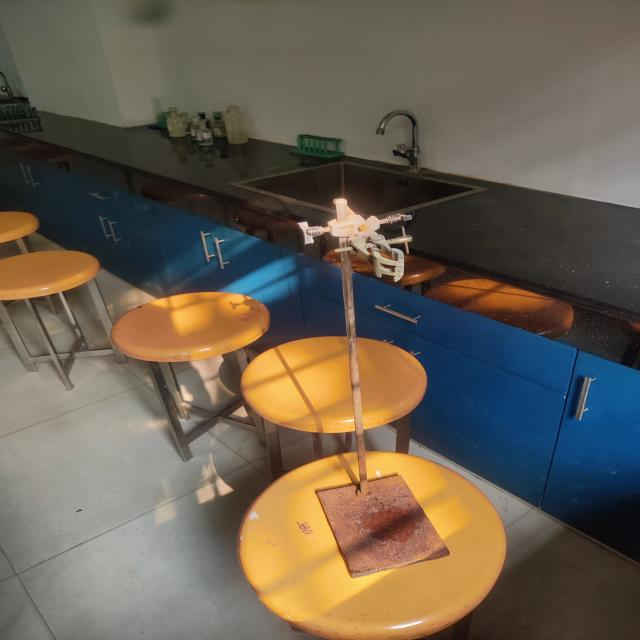Burette_Stands: (274, 167, 488, 618)
